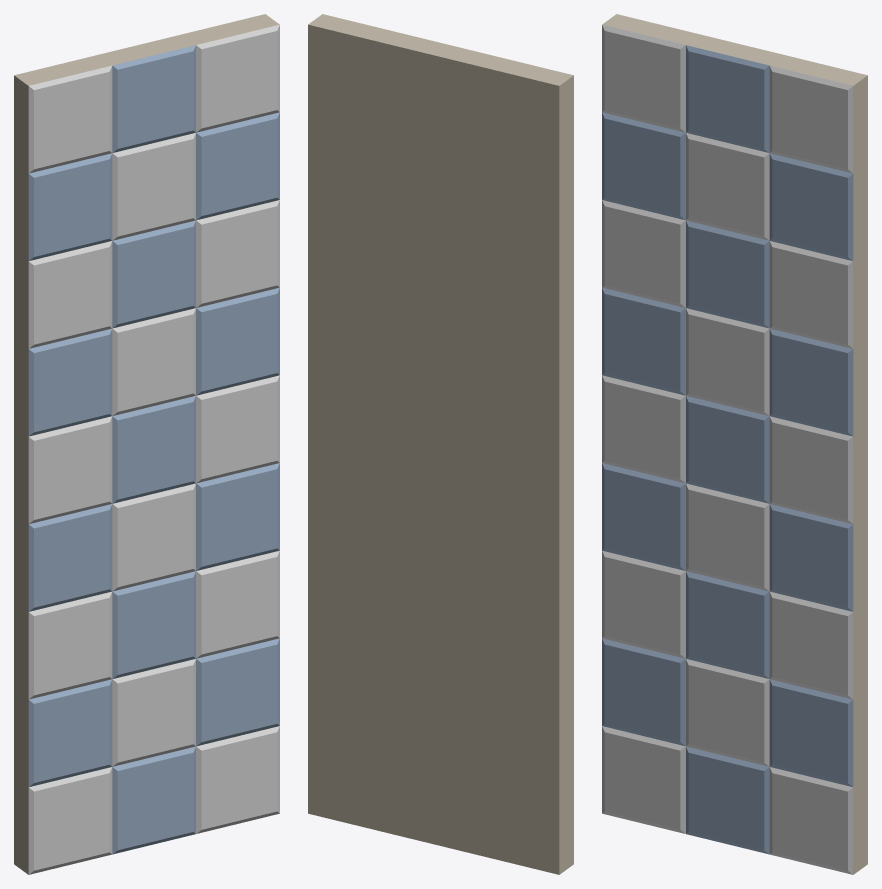
Rendered from Mesh_WallCeramic_I1.fbx.
3 views of the same model, side by side, from view 1: azimuth 30°, elevation 25°; view 2: azimuth 150°, elevation 25°; view 3: azimuth 330°, elevation 25° (orthographic).
Parts seen in each view (by area): view 1: Mesh_WallCeramic_I1; view 2: Mesh_WallCeramic_I1; view 3: Mesh_WallCeramic_I1.
Boxes of the visible parts, bbox=[...] form: Mesh_WallCeramic_I1: bbox=[14, 14, 279, 874]; Mesh_WallCeramic_I1: bbox=[308, 14, 573, 874]; Mesh_WallCeramic_I1: bbox=[602, 14, 867, 874].
Bounding box in the file's own units: 1 × 3 × 0.1096.
